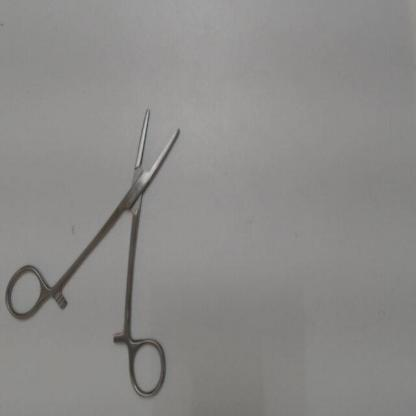Mayo Needle Holder: (1, 90, 199, 406)
